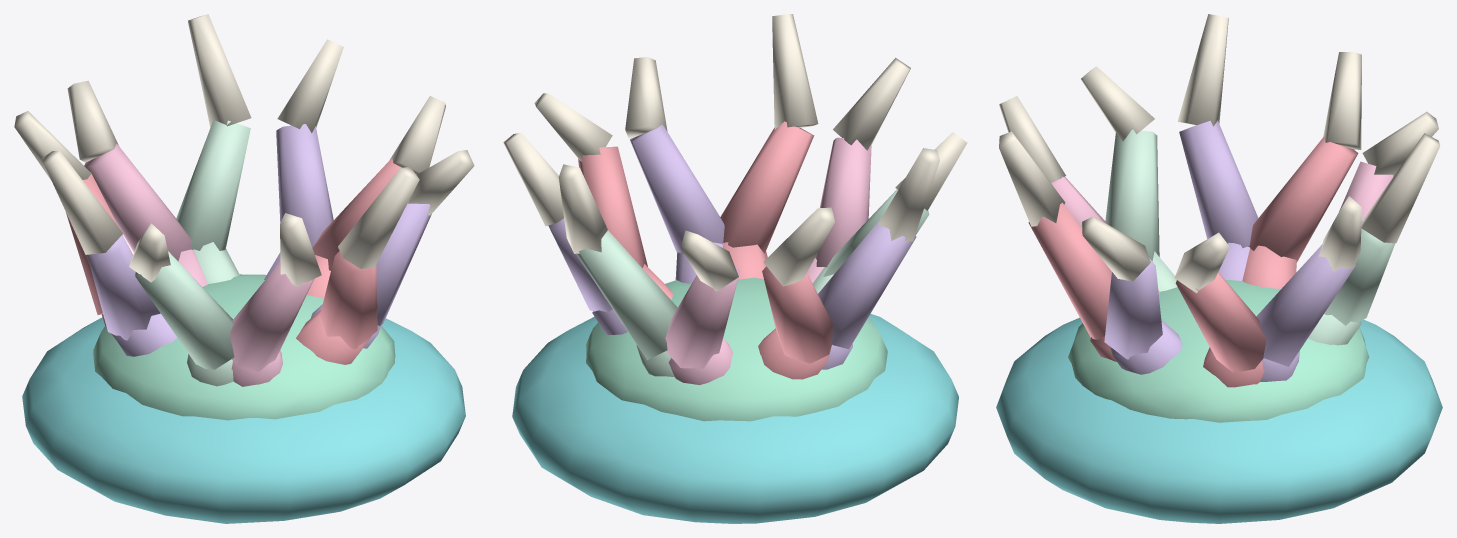
The model's file is anemone_story.glb.
The picture shows the model from 3 angles, left to right: view 1: azimuth 30°, elevation 25°; view 2: azimuth 150°, elevation 25°; view 3: azimuth 270°, elevation 25°; orthographic projection.
Parts seen in each view (by area): view 1: anemone_story_mesh; view 2: anemone_story_mesh; view 3: anemone_story_mesh.
Part boxes in pixels (x1,y1,x2,y2): anemone_story_mesh: (14,14,474,523); anemone_story_mesh: (503,14,967,523); anemone_story_mesh: (996,14,1442,523).
Size of the model in its own units: 2.19 by 1.92 by 2.1.
